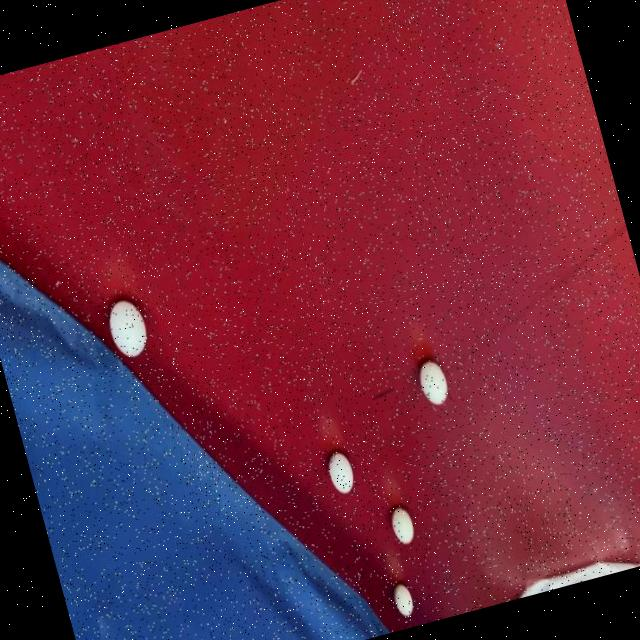ping-pong-ball: (100, 291, 152, 362), (413, 356, 451, 408), (322, 448, 357, 497), (384, 501, 416, 546), (388, 579, 416, 620)
